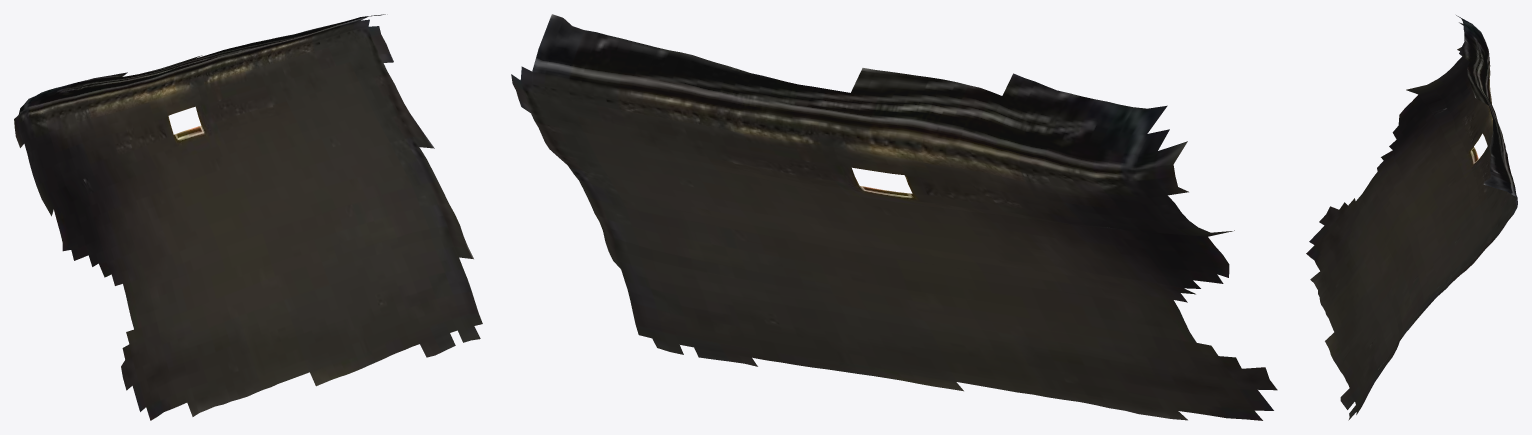
Rendered from observed-surface.glb.
The picture shows the model from 3 angles, left to right: view 1: azimuth 30°, elevation 25°; view 2: azimuth 150°, elevation 25°; view 3: azimuth 270°, elevation 25°; orthographic projection. The views are drawn at different scales.
Parts seen in each view (by area): view 1: geometry_0; view 2: geometry_0; view 3: geometry_0.
Part boxes in pixels (x1,y1,x2,y2): geometry_0: (14,14,482,420); geometry_0: (511,14,1277,420); geometry_0: (1306,15,1517,420).
Bounding box in the file's own units: 0.7034 × 0.4801 × 0.3706.
1 material, 1 textured.
